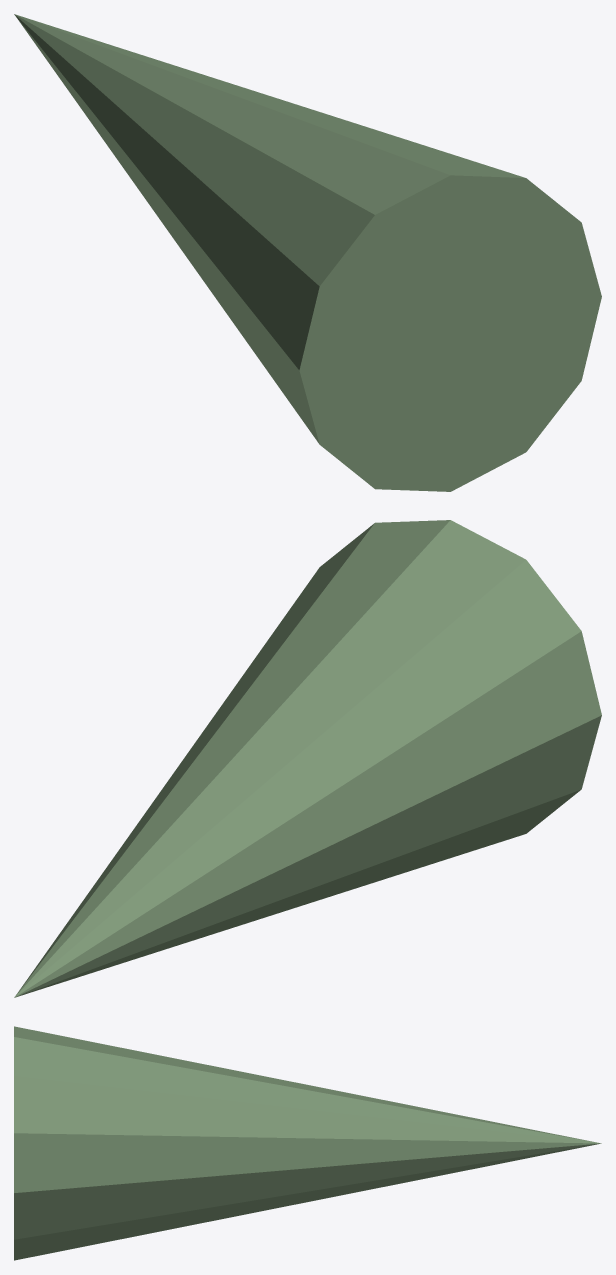
The model's file is missile.glb.
3 renders of one model, top to bottom at view 1: azimuth 30°, elevation 25°; view 2: azimuth 150°, elevation 25°; view 3: azimuth 270°, elevation 25°, orthographic. The views are drawn at different scales.
Visible parts, largest first — view 1: Cone; view 2: Cone; view 3: Cone.
Boxes of the visible parts, <box> form: Cone: <box>14,14,601,491</box>; Cone: <box>14,520,601,997</box>; Cone: <box>14,1026,601,1260</box>.
Size of the model in its own units: 0.4 by 0.4 by 1.
